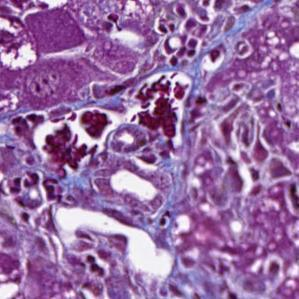inflammation: (131, 68, 193, 143)
